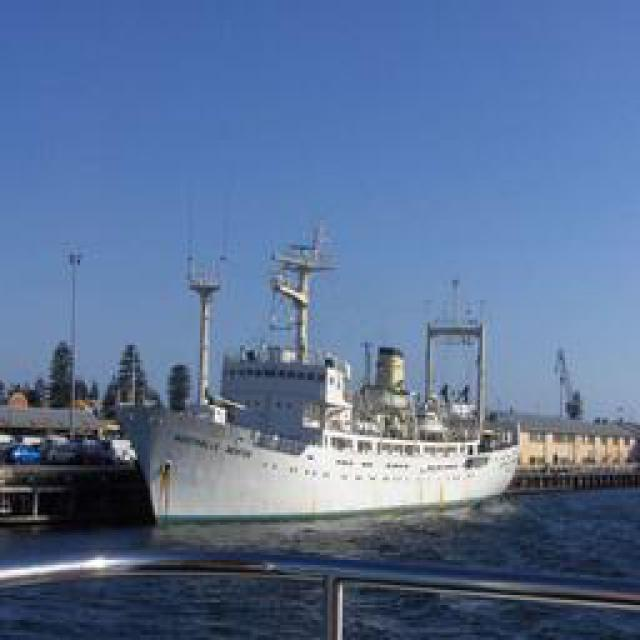Ship: (116, 222, 526, 530)
